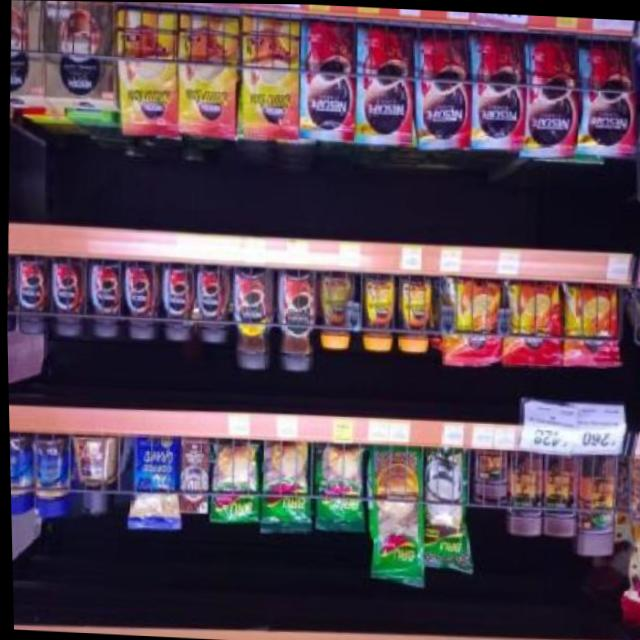Coffee: (114, 7, 180, 132), (176, 12, 239, 135), (238, 16, 301, 137), (409, 29, 473, 146), (353, 24, 415, 142), (298, 17, 356, 138), (466, 32, 526, 145), (575, 39, 636, 148), (521, 34, 579, 148), (227, 264, 274, 370), (272, 268, 320, 371), (503, 281, 560, 362), (444, 278, 501, 359), (563, 283, 617, 362), (10, 255, 50, 335), (192, 263, 229, 343), (49, 257, 87, 334), (395, 272, 433, 349), (120, 258, 157, 335), (158, 262, 194, 340), (85, 258, 119, 336), (360, 274, 395, 349), (317, 273, 352, 347), (4, 254, 16, 332)
